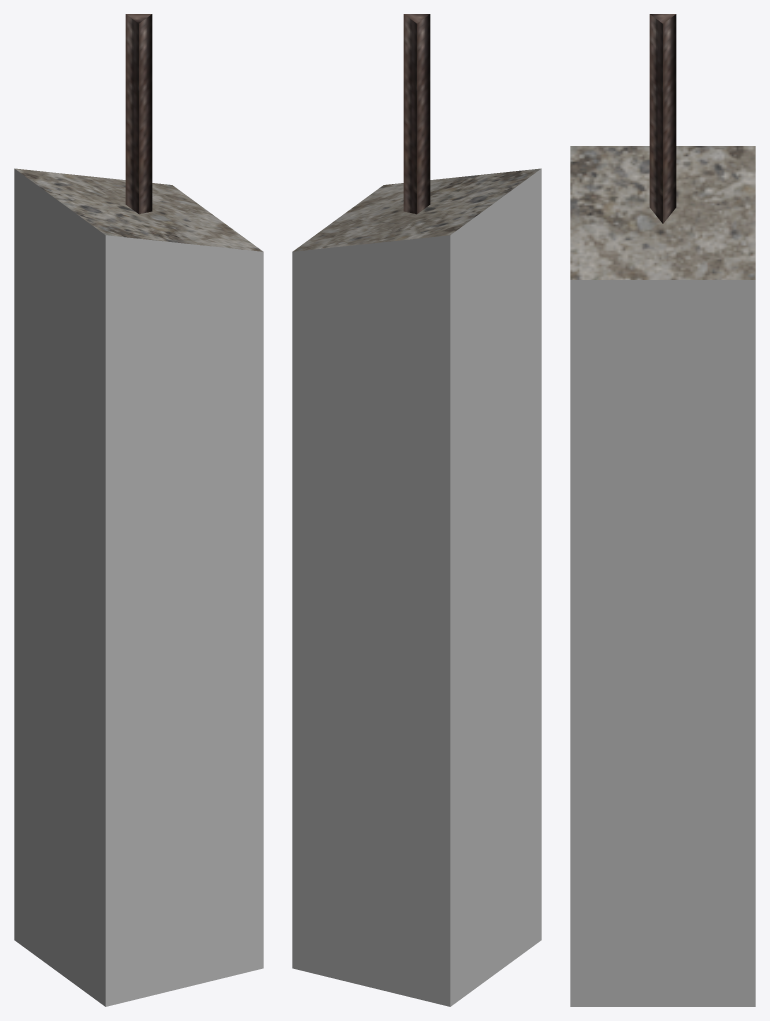
File: Pillar_Broken.fbx
The picture shows the model from 3 angles, left to right: view 1: azimuth 30°, elevation 25°; view 2: azimuth 150°, elevation 25°; view 3: azimuth 270°, elevation 25°; orthographic projection.
Parts seen in each view (by area): view 1: Pillar, Broken_Concrete, Rebar; view 2: Pillar, Broken_Concrete, Rebar; view 3: Pillar, Broken_Concrete, Rebar.
Part boxes in pixels (x1,y1,x2,y2): Pillar: (14, 168, 263, 1006); Broken_Concrete: (15, 168, 262, 251); Rebar: (125, 14, 152, 214); Pillar: (292, 168, 541, 1006); Broken_Concrete: (293, 168, 540, 251); Rebar: (403, 14, 430, 214); Pillar: (570, 280, 755, 1006); Broken_Concrete: (570, 146, 755, 279); Rebar: (649, 14, 676, 223).
Bounding box in the file's own units: 30 × 170 × 30.
